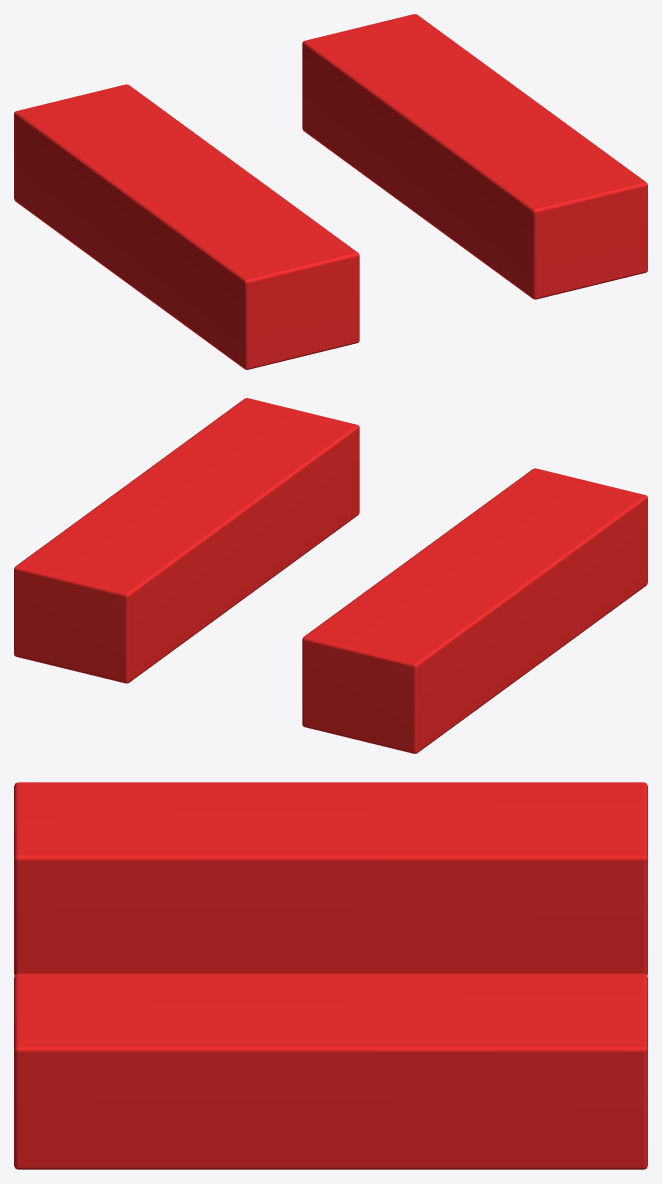
Rendered from cylinder_heads.glb.
3 renders of one model, top to bottom at view 1: azimuth 30°, elevation 25°; view 2: azimuth 150°, elevation 25°; view 3: azimuth 270°, elevation 25°, orthographic. The views are drawn at different scales.
Visible parts, largest first — view 1: GEO_Cylinder_Heads; view 2: GEO_Cylinder_Heads; view 3: GEO_Cylinder_Heads.
Part boxes in pixels (x1,y1,x2,y2): GEO_Cylinder_Heads: [14, 14, 647, 369]; GEO_Cylinder_Heads: [14, 398, 647, 753]; GEO_Cylinder_Heads: [14, 782, 647, 1169].
Bounding box in the file's own units: 0.56 × 0.12 × 0.56.
